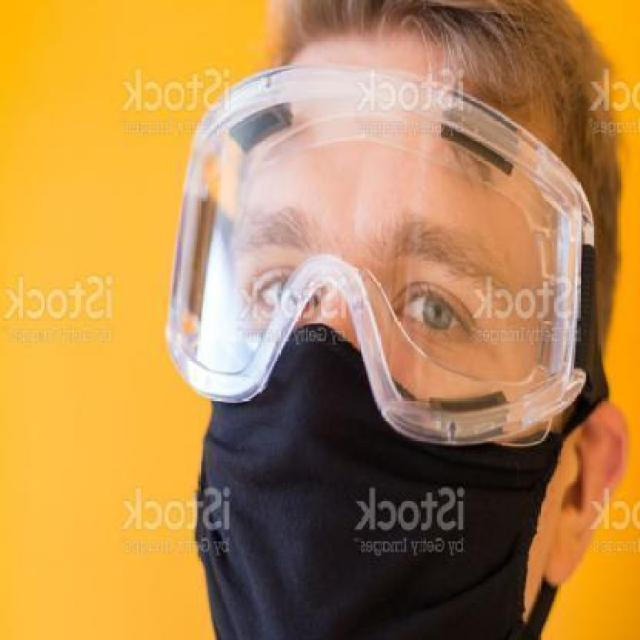face_mask: (177, 103, 532, 640)
glasses: (162, 59, 602, 461)
